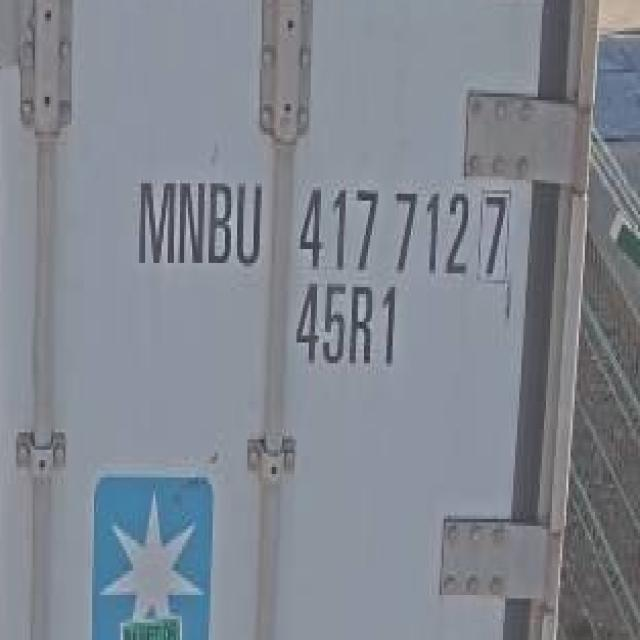dv: (477, 183, 519, 287)
owner: (130, 163, 264, 276)
serial: (290, 173, 473, 283)
size: (291, 282, 402, 374)
